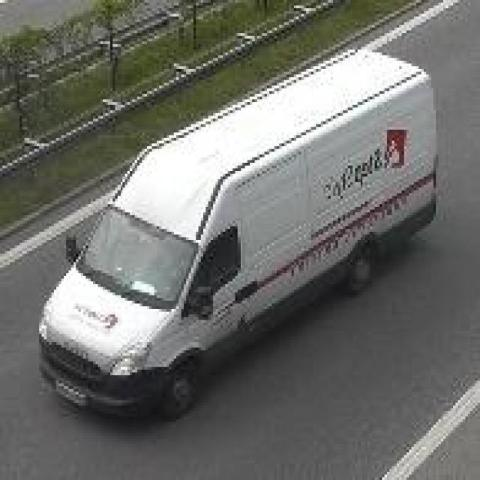van: (39, 46, 436, 418)
